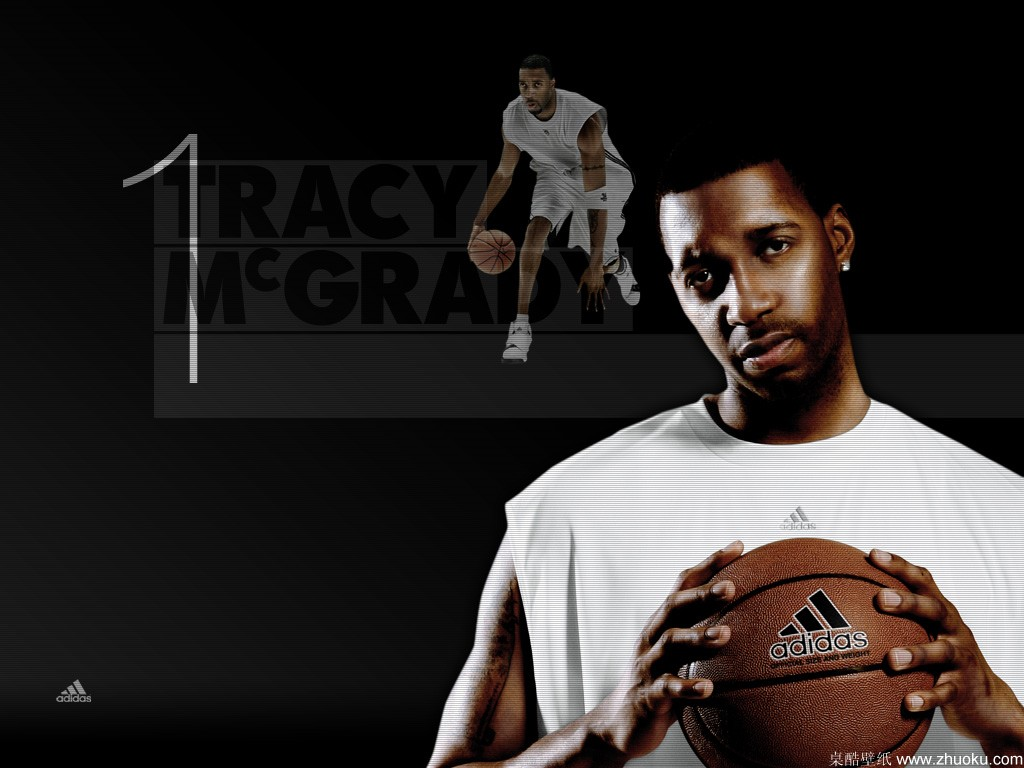ball: (673, 536, 942, 768), (468, 228, 517, 277)
